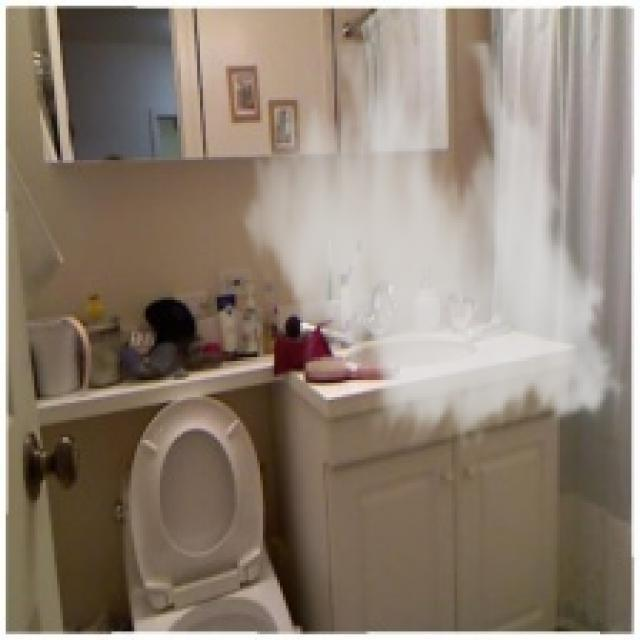Smoke: (232, 39, 634, 452)
